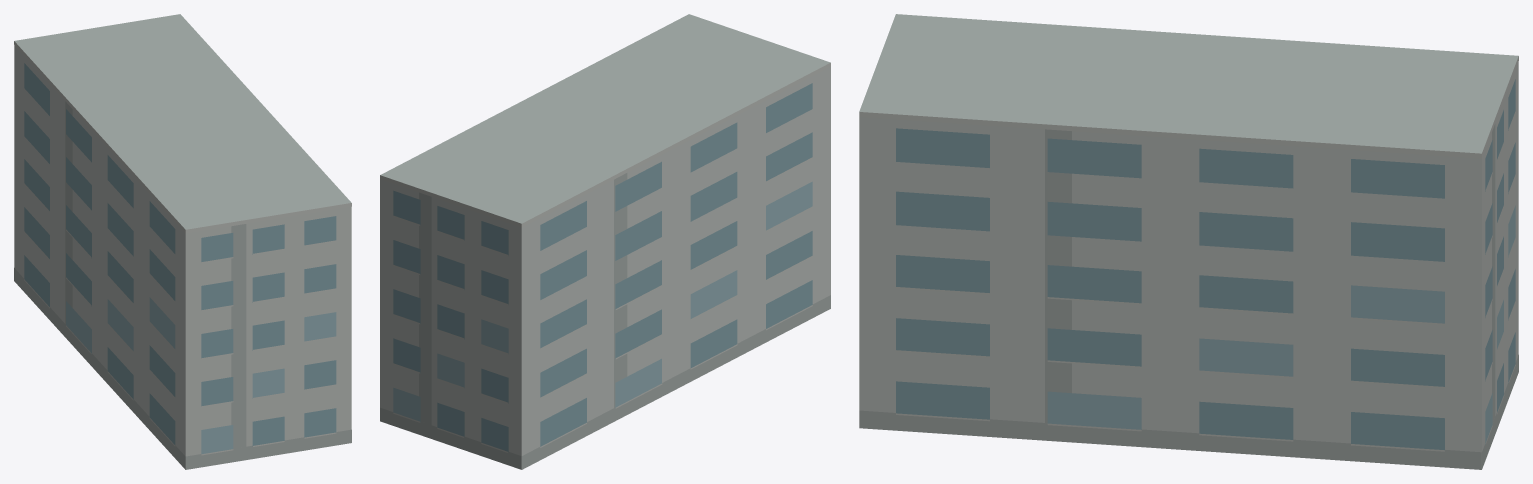
File: residential-b520d987-fe69-4566-9ffc-2c5d2463a2aa.glb
3 views of the same model, side by side, from view 1: azimuth 30°, elevation 25°; view 2: azimuth 150°, elevation 25°; view 3: azimuth 270°, elevation 25° (orthographic). The views are drawn at different scales.
Visible parts, largest first — view 1: residential-b520d987-fe69-4566-9ffc-2c5d2463a2aa.tmp; view 2: residential-b520d987-fe69-4566-9ffc-2c5d2463a2aa.tmp; view 3: residential-b520d987-fe69-4566-9ffc-2c5d2463a2aa.tmp.
Part boxes in pixels (x1,y1,x2,y2): residential-b520d987-fe69-4566-9ffc-2c5d2463a2aa.tmp: (14, 14, 351, 469); residential-b520d987-fe69-4566-9ffc-2c5d2463a2aa.tmp: (380, 14, 830, 469); residential-b520d987-fe69-4566-9ffc-2c5d2463a2aa.tmp: (859, 14, 1518, 469).
Size of the model in its own units: 14.44 by 15.25 by 28.83.
